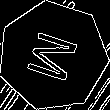M_E: (22, 26, 85, 86)
